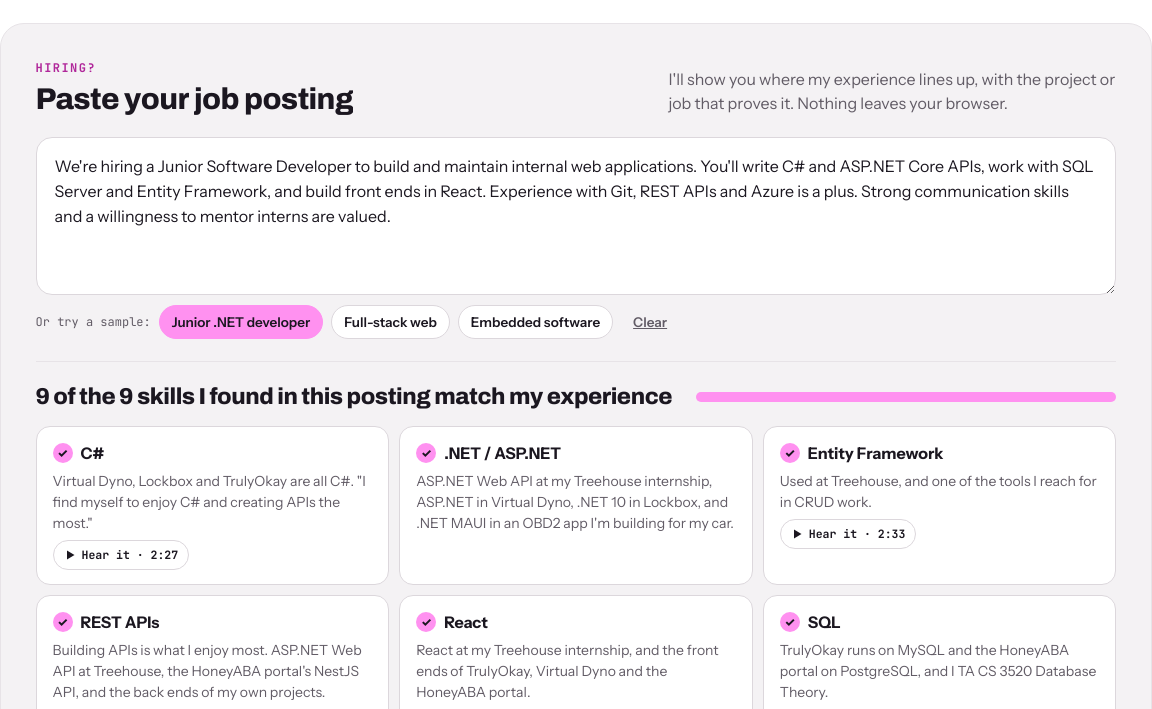
Scenario: <JobMatch> › prompts for a posting once cleared
The width and height of the screenshot is (1152, 709).
Click the button "Clear". click: (650, 322)
box: x1=621 y1=305 x2=679 y2=339
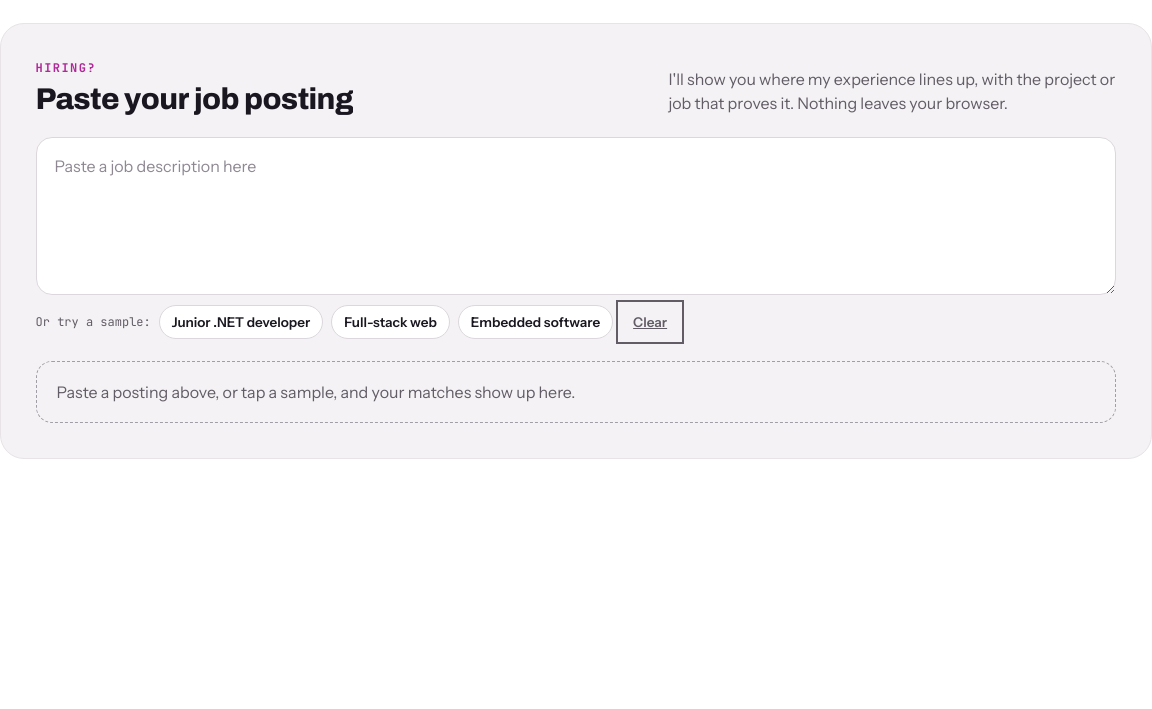
Expected: the text "Paste a posting above" is shown, x1=56 y1=382 x2=575 y2=402
